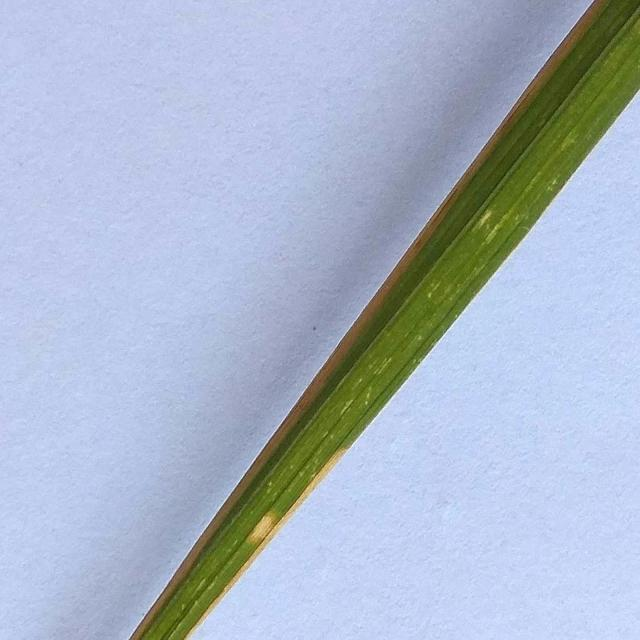Leaf blast: (124, 3, 640, 640)
